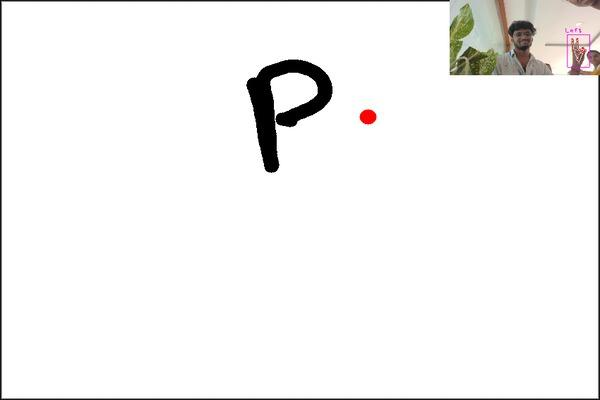P: (234, 52, 351, 178)
